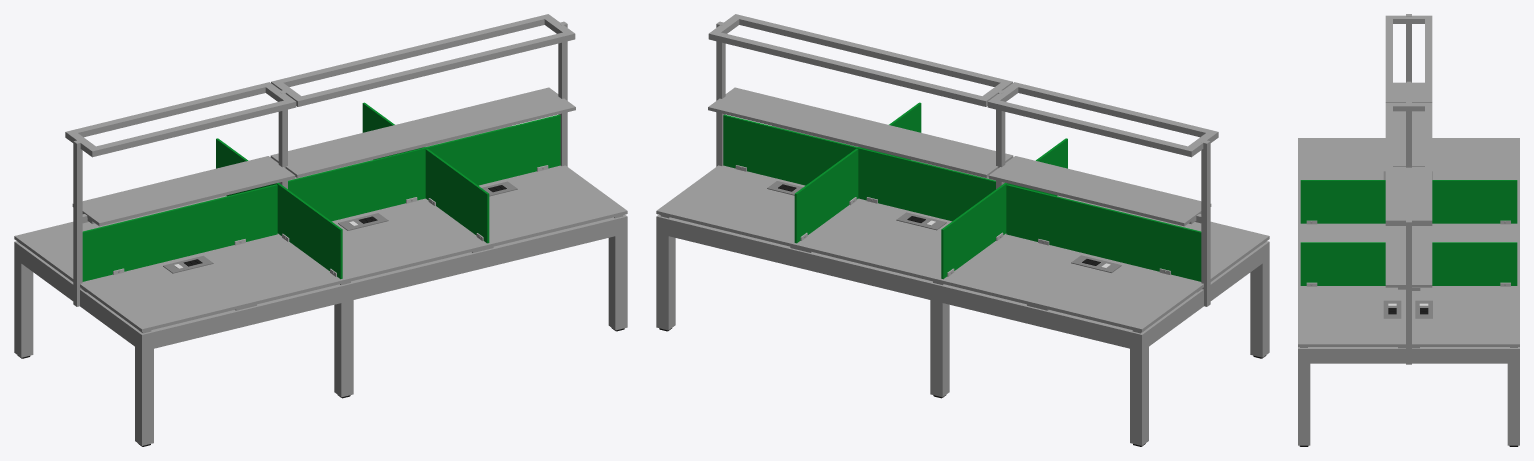
File: mesaalta.fbx
The picture shows the model from 3 angles, left to right: view 1: azimuth 30°, elevation 25°; view 2: azimuth 150°, elevation 25°; view 3: azimuth 270°, elevation 25°; orthographic projection. The views are drawn at different scales.
Visible parts, largest first — view 1: pCube1, mesaBiblioteca_vid1:pCube1, mesaBiblioteca_vid1:pCube13, pCube105, pasted__pCube23, pCube4, pasted__pCube25, pCube23, mesaBiblioteca_vid1:pCube4, pCube25, pCube30, pasted__pCube53 (+7 smaller); view 2: pCube1, mesaBiblioteca_vid1:pCube1, mesaBiblioteca_vid1:pCube13, pCube105, pasted__pCube23, pCube4, pasted__pCube25, pCube23, mesaBiblioteca_vid1:pCube4, pCube25, pCube30, pasted__pCube53 (+7 smaller); view 3: mesaBiblioteca_vid1:pCube1, pCube1, pCube30, pasted__pCube53, pasted__pCube23, mesaBiblioteca_vid1:pCube4, pasted__pCube25, mesaBiblioteca_vid1:pasted__pasted__pasted__pCube6 (×2), pCube23, pCube25, pasted__pCube21, pCube20 (+3 smaller).
Boxes of the visible parts, <box> form: pCube1: <box>14,196,353,332</box>; mesaBiblioteca_vid1:pCube1: <box>225,126,627,280</box>; mesaBiblioteca_vid1:pCube13: <box>288,114,560,221</box>; pCube105: <box>82,184,277,281</box>; pasted__pCube23: <box>270,87,575,177</box>; pCube4: <box>14,241,353,351</box>; pasted__pCube25: <box>271,14,575,106</box>; pCube23: <box>72,156,295,226</box>; mesaBiblioteca_vid1:pCube4: <box>341,214,627,302</box>; pCube25: <box>65,82,296,157</box>; pCube30: <box>216,138,342,279</box>; pasted__pCube53: <box>362,102,489,243</box>; pCube1: <box>930,195,1269,332</box>; mesaBiblioteca_vid1:pCube1: <box>656,126,995,283</box>; mesaBiblioteca_vid1:pCube13: <box>723,114,995,221</box>; pCube105: <box>1006,184,1201,281</box>; pasted__pCube23: <box>708,87,1013,177</box>; pCube4: <box>930,241,1269,351</box>; pasted__pCube25: <box>708,14,1012,106</box>; pCube23: <box>988,156,1211,226</box>; mesaBiblioteca_vid1:pCube4: <box>656,214,944,302</box>; pCube25: <box>987,82,1218,157</box>; pCube30: <box>941,138,1067,279</box>; pasted__pCube53: <box>794,102,921,243</box>; mesaBiblioteca_vid1:pCube1: <box>1298,222,1519,346</box>; pCube1: <box>1298,138,1519,222</box>; pCube30: <box>1300,180,1517,223</box>; pasted__pCube53: <box>1300,242,1517,285</box>; pasted__pCube23: <box>1385,166,1432,287</box>; mesaBiblioteca_vid1:pCube4: <box>1298,347,1519,363</box>; pasted__pCube25: <box>1385,103,1432,225</box>; mesaBiblioteca_vid1:pasted__pasted__pasted__pCube6 (×2): <box>1298,353,1519,445</box>; pCube23: <box>1393,82,1424,166</box>; pCube25: <box>1385,15,1432,102</box>; pasted__pCube21: <box>1406,220,1411,364</box>; pCube20: <box>1406,14,1411,82</box>.
Size of the model in its own units: 23.7 by 12 by 10.66.
